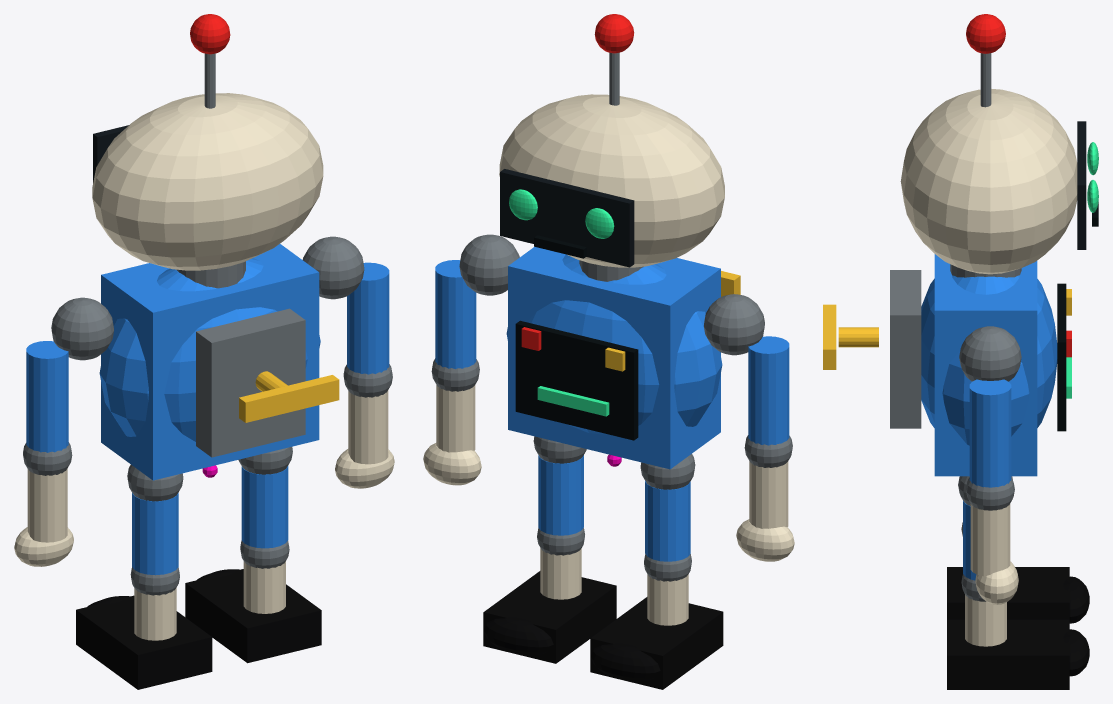
Rendered from cute_walking_robot_toy.obj.
The picture shows the model from 3 angles, left to right: view 1: azimuth 30°, elevation 25°; view 2: azimuth 150°, elevation 25°; view 3: azimuth 270°, elevation 25°; orthographic projection. The views are drawn at different scales.
Visible parts, largest first — view 1: Head_large_friendly_rounded_shape, Torso_inner_block_rig_cage, Back_battery_pack, Torso_rounded_square_body_shell, Left_wide_toy_foot, Right_wide_toy_foot, Left_upper_arm_capsule, Right_upper_arm_capsule, Right_upper_leg_short, Left_upper_leg_short, Left_shoulder_ball_joint, Left_forearm_capsule (+17 smaller); view 2: Head_large_friendly_rounded_shape, Torso_inner_block_rig_cage, Belly_panel_screen, Torso_rounded_square_body_shell, Face_plate_dark_rounded_panel_proxy, Left_wide_toy_foot, Right_wide_toy_foot, Left_upper_arm_capsule, Right_upper_arm_capsule, Left_upper_leg_short, Right_upper_leg_short, Left_shoulder_ball_joint (+22 smaller); view 3: Head_large_friendly_rounded_shape, Torso_inner_block_rig_cage, Right_wide_toy_foot, Torso_rounded_square_body_shell, Back_battery_pack, Right_upper_arm_capsule, Left_wide_toy_foot, Right_shoulder_ball_joint, Right_forearm_capsule, Right_lower_leg_short, Belly_panel_screen, Face_plate_dark_rounded_panel_proxy (+10 smaller).
Part boxes in pixels (x1,y1,x2,y2): Head_large_friendly_rounded_shape: (92,93,323,270); Torso_inner_block_rig_cage: (101,244,319,480); Back_battery_pack: (196,308,305,457); Torso_rounded_square_body_shell: (99,258,320,441); Left_wide_toy_foot: (76,595,212,689); Right_wide_toy_foot: (185,569,321,663); Left_upper_arm_capsule: (26,341,68,452); Right_upper_arm_capsule: (347,262,389,374); Right_upper_leg_short: (241,466,288,548); Left_upper_leg_short: (132,493,178,575); Left_shoulder_ball_joint: (51,297,113,360); Left_forearm_capsule: (27,468,67,542); Head_large_friendly_rounded_shape: (499,94,724,267); Torso_inner_block_rig_cage: (508,246,720,469); Belly_panel_screen: (515,320,638,440); Torso_rounded_square_body_shell: (506,254,722,435); Face_plate_dark_rounded_panel_proxy: (500,169,634,267); Left_wide_toy_foot: (590,597,723,689); Right_wide_toy_foot: (483,571,616,663); Left_upper_arm_capsule: (748,336,789,445); Right_upper_arm_capsule: (435,260,476,369); Left_upper_leg_short: (645,481,690,561); Right_upper_leg_short: (538,455,583,535); Left_shoulder_ball_joint: (704,294,764,355); Head_large_friendly_rounded_shape: (900,89,1077,274); Torso_inner_block_rig_cage: (934,254,1037,476); Right_wide_toy_foot: (947,619,1069,689); Torso_rounded_square_body_shell: (921,275,1057,445); Back_battery_pack: (890,270,921,428); Right_upper_arm_capsule: (969,379,1011,487); Left_wide_toy_foot: (947,567,1069,619); Right_shoulder_ball_joint: (959,326,1021,381); Right_forearm_capsule: (970,504,1010,576); Right_lower_leg_short: (965,594,1006,646); Belly_panel_screen: (1057,283,1066,431); Face_plate_dark_rounded_panel_proxy: (1077,121,1086,249).
Bounding box in the file's own units: 1.93 × 3.11 × 1.24.
